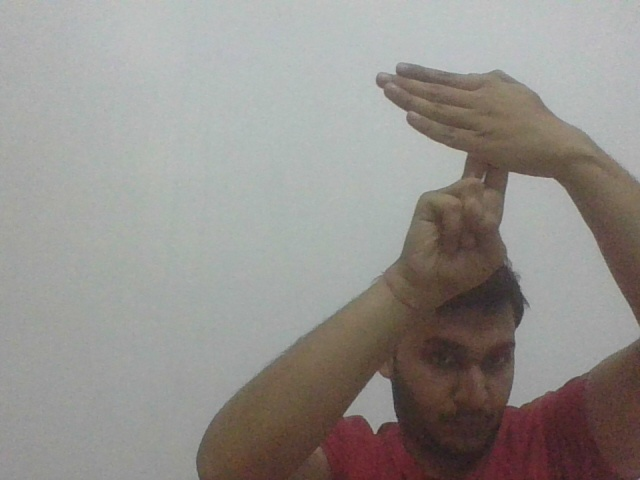N: (372, 56, 553, 190)
